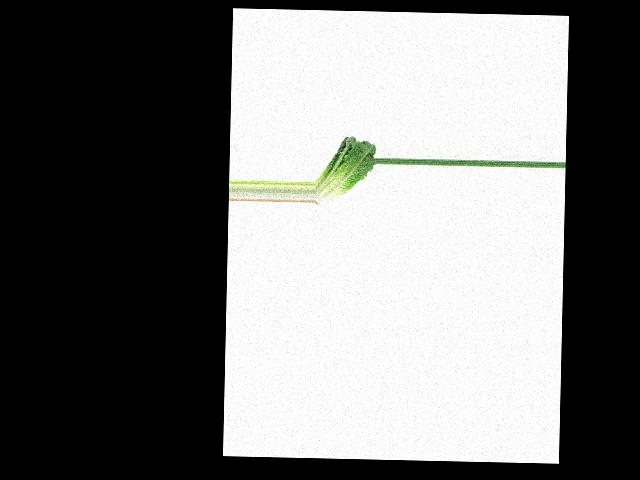lettuce: (314, 134, 375, 206)
